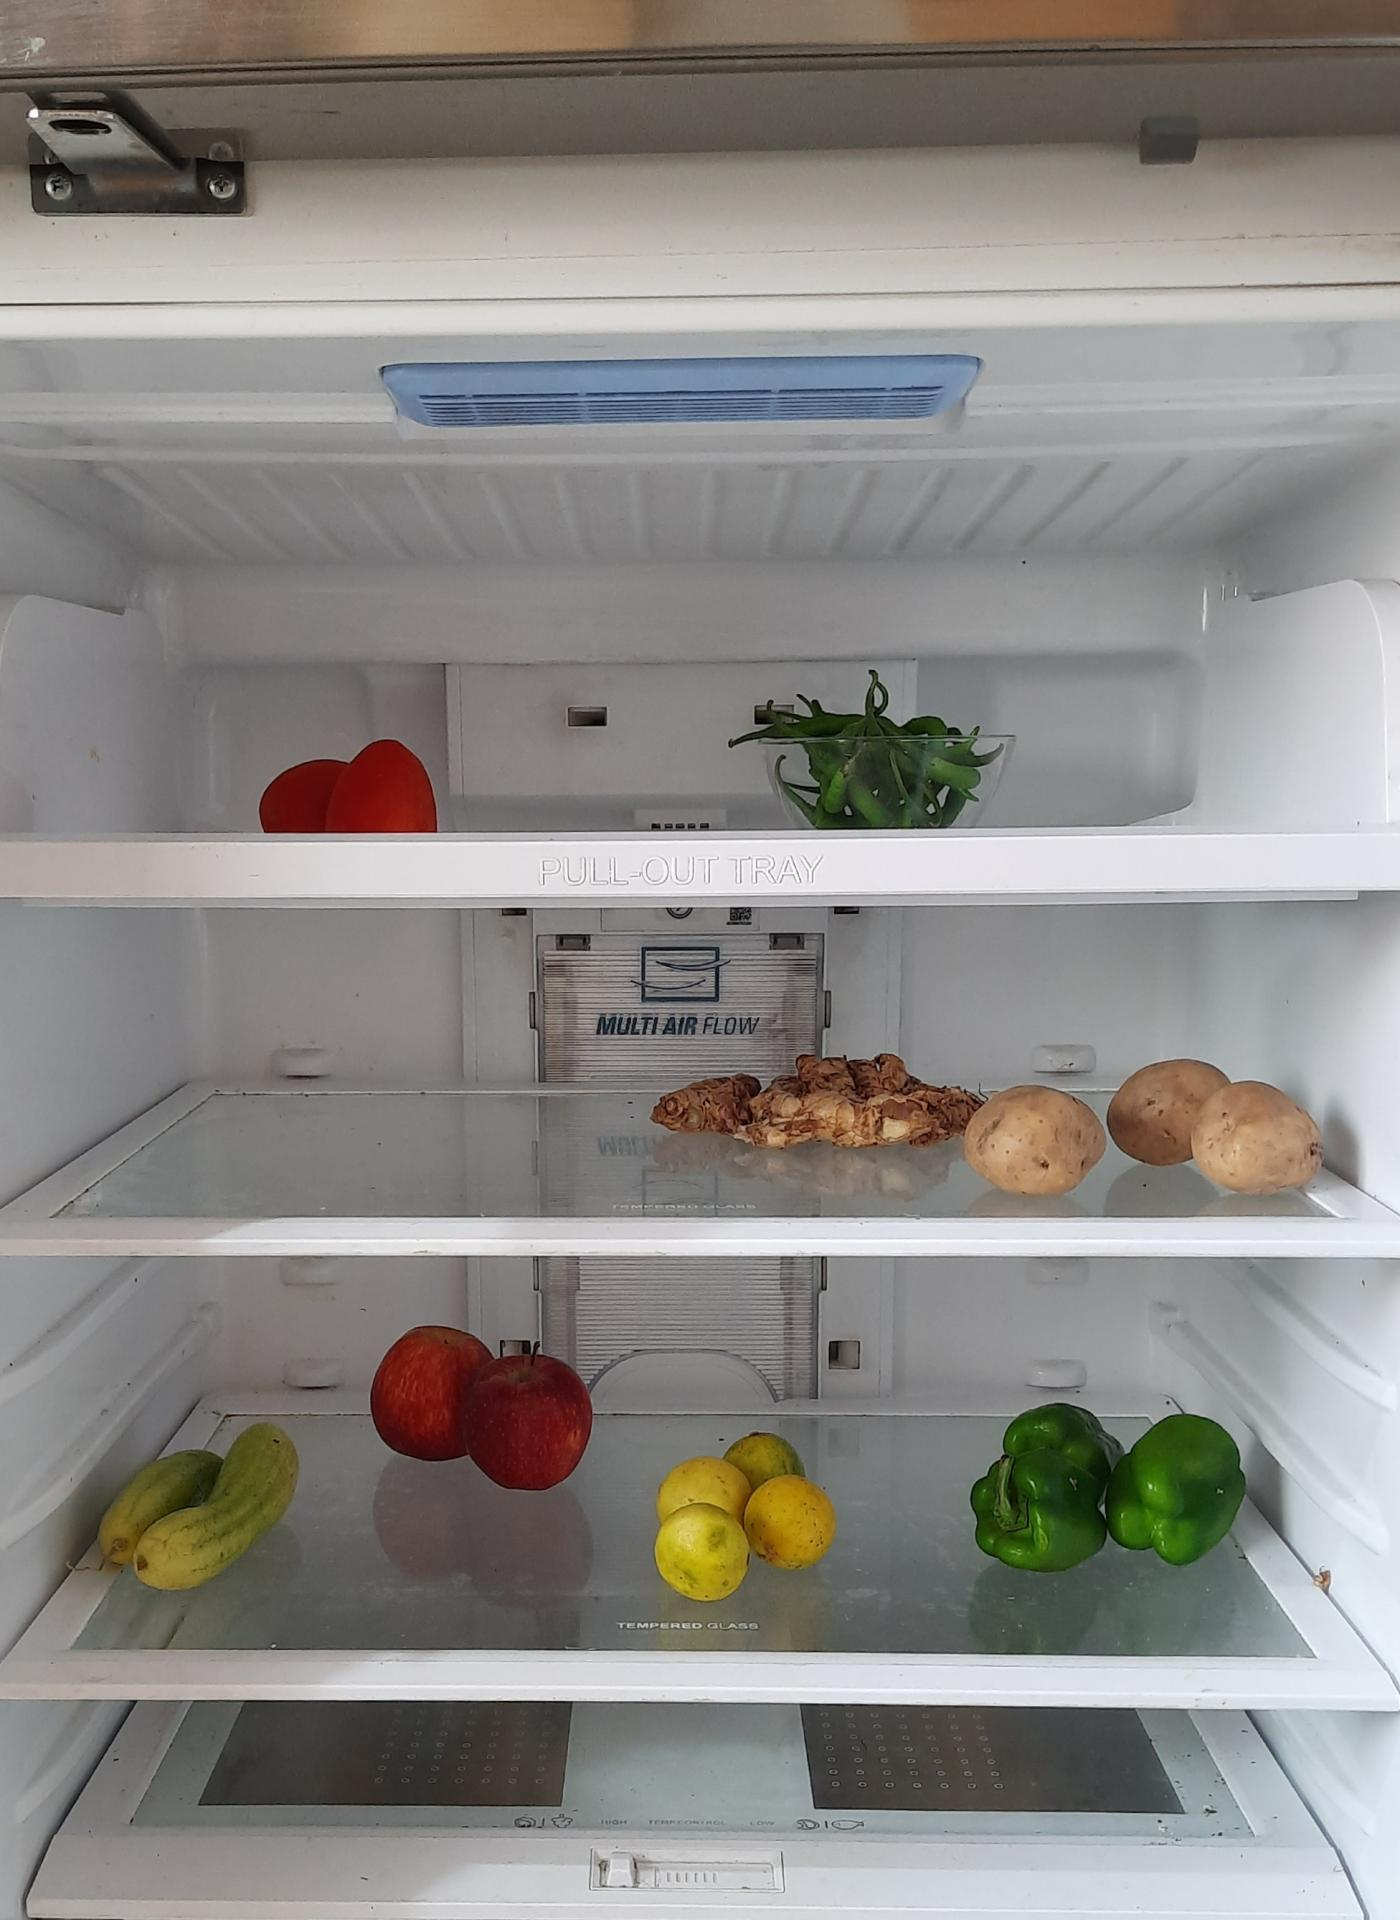apple: (371, 1318, 595, 1489)
capsicum: (977, 1386, 1254, 1562)
chillies: (750, 668, 1008, 818)
cucumber: (85, 1416, 298, 1597)
ginger: (659, 1036, 981, 1158)
lemon: (656, 1427, 839, 1601)
potato: (963, 1055, 1331, 1193)
tomato: (262, 739, 446, 839)
